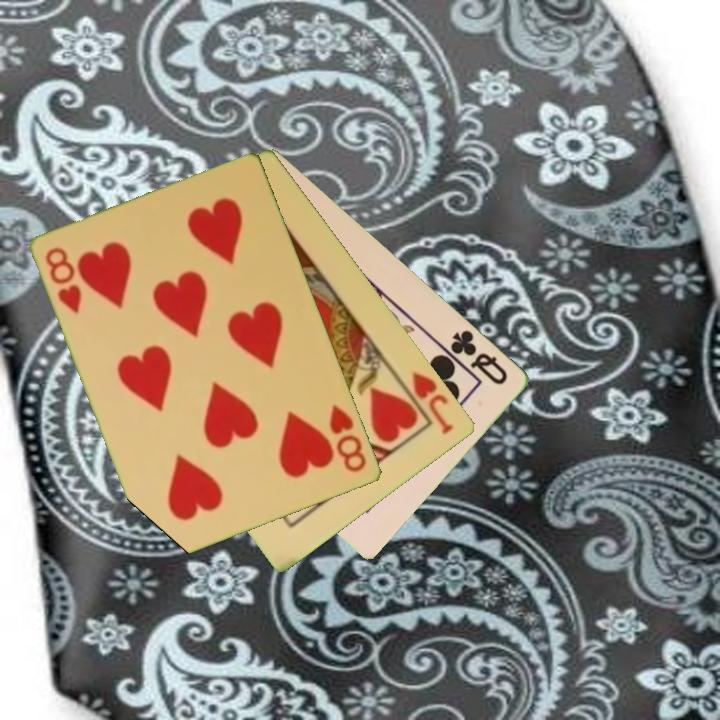8h: (326, 400, 370, 476), (42, 244, 85, 317)
Jh: (408, 367, 457, 438)
Qc: (447, 326, 512, 388)
